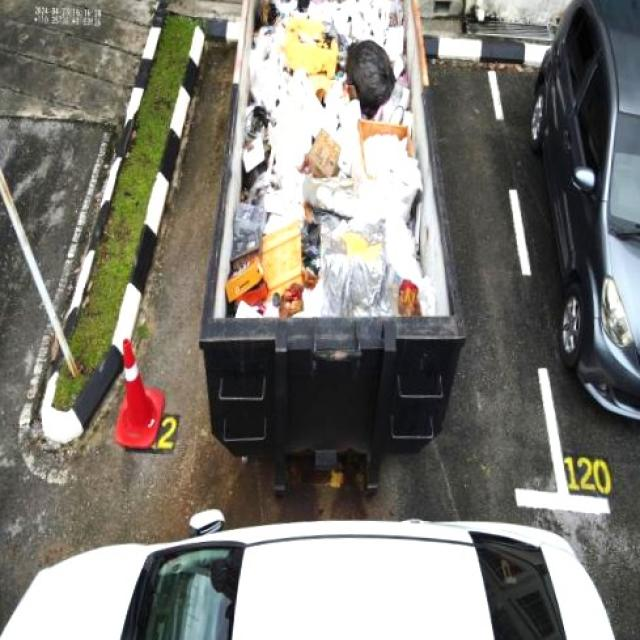Legalparking: (199, 0, 465, 492), (530, 0, 639, 419)
